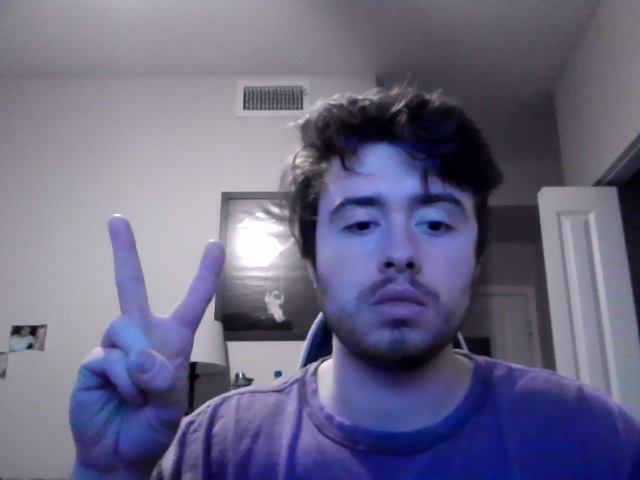v: (67, 214, 227, 478)
